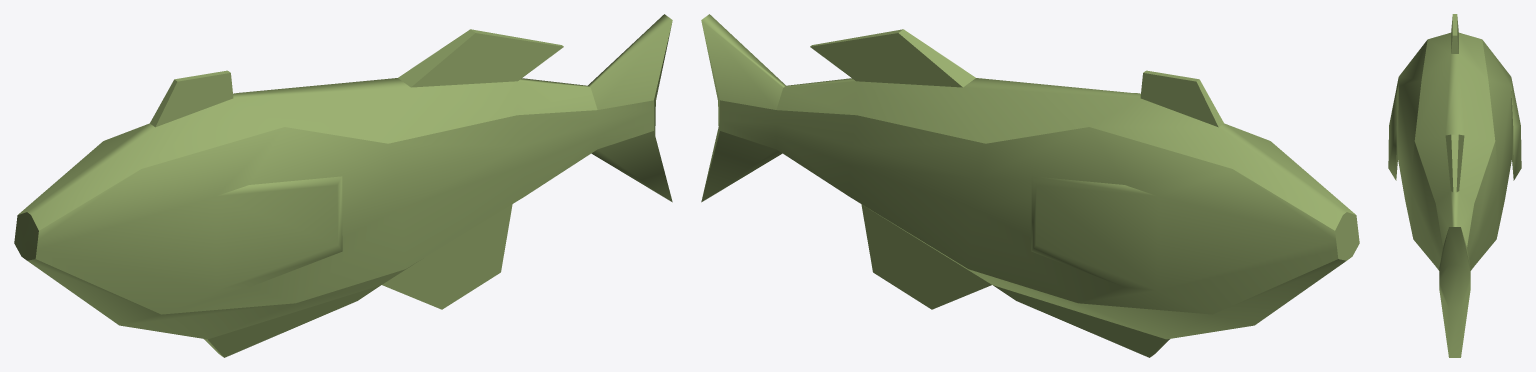
File: bass.fbx
3 views of the same model, side by side, from view 1: azimuth 30°, elevation 25°; view 2: azimuth 150°, elevation 25°; view 3: azimuth 270°, elevation 25° (orthographic). The views are drawn at different scales.
Parts seen in each view (by area): view 1: pCube1; view 2: pCube1; view 3: pCube1.
Part boxes in pixels (x1,y1,x2,y2): pCube1: [14, 14, 672, 357]; pCube1: [701, 14, 1359, 357]; pCube1: [1388, 14, 1521, 357].
Bounding box in the file's own units: 13.41 × 5.79 × 3.35.
